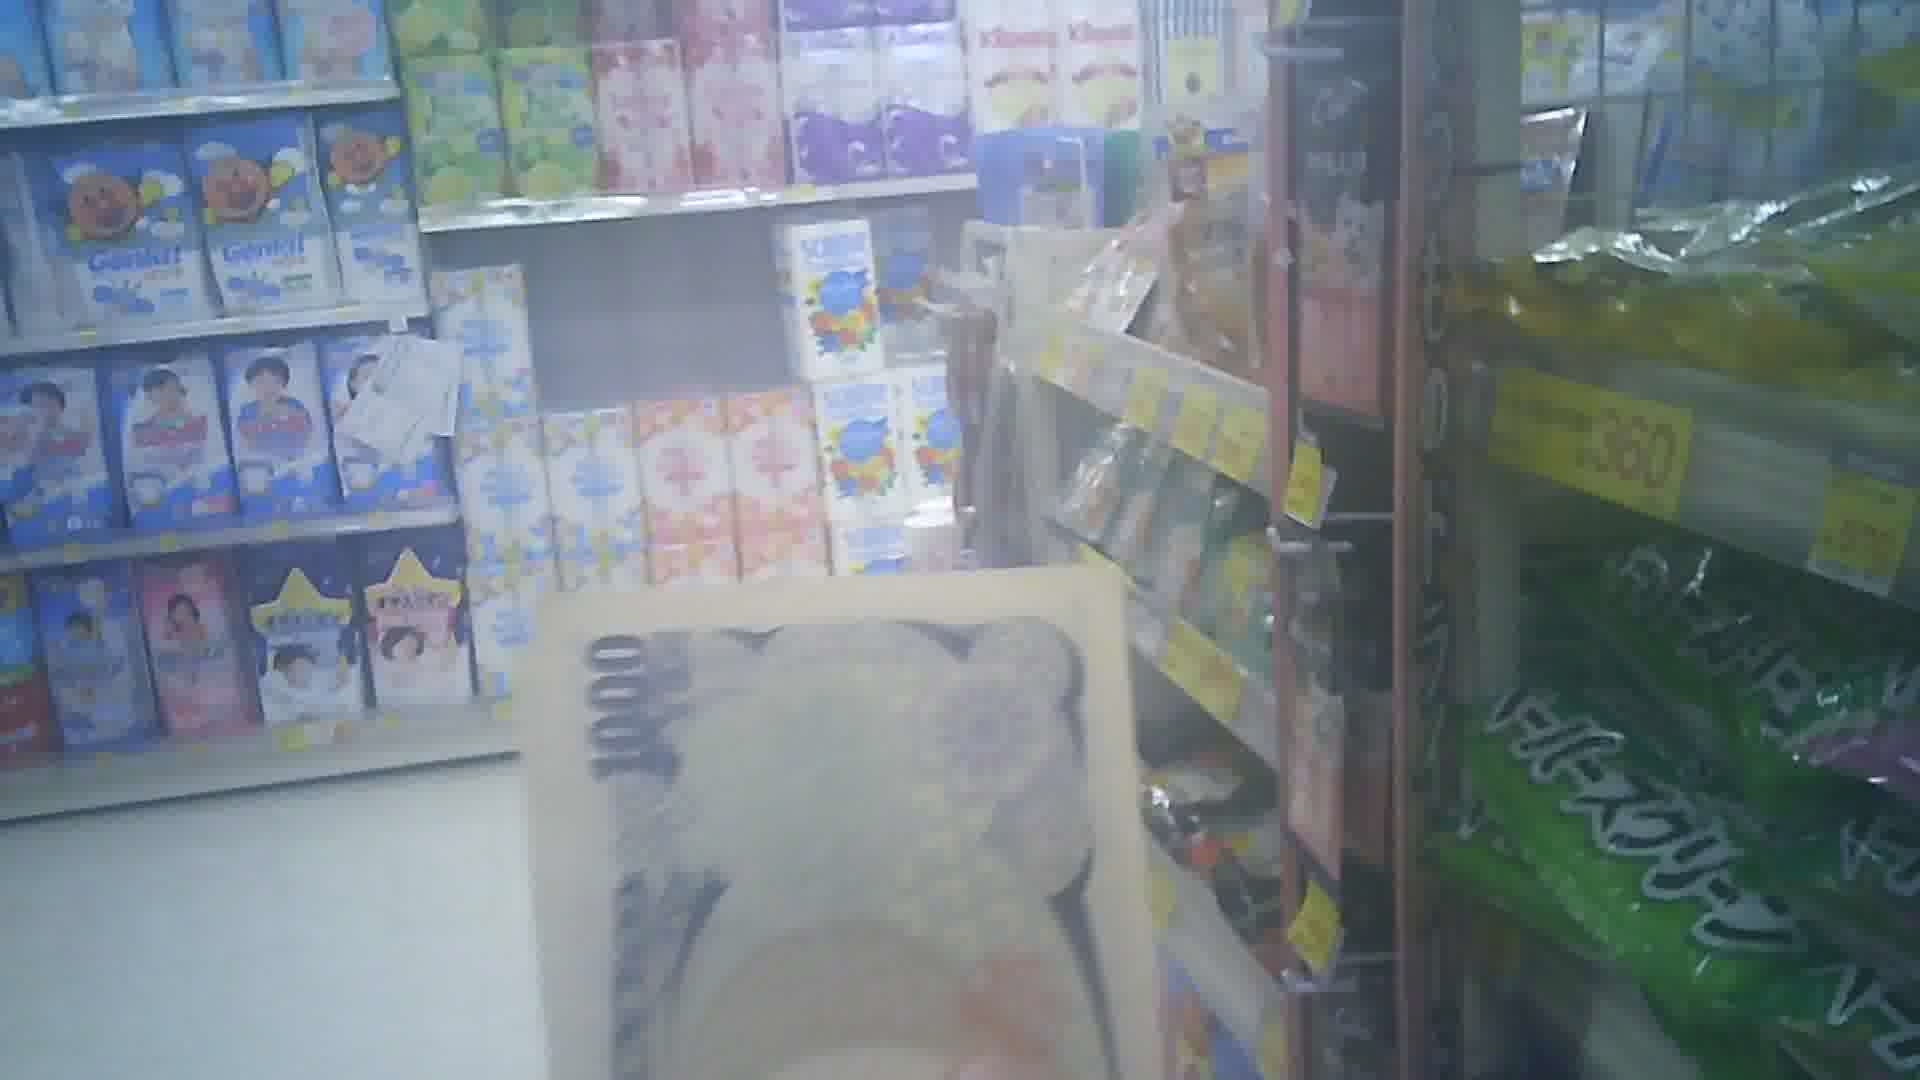1,000 Yen: (514, 571, 1149, 1079)
